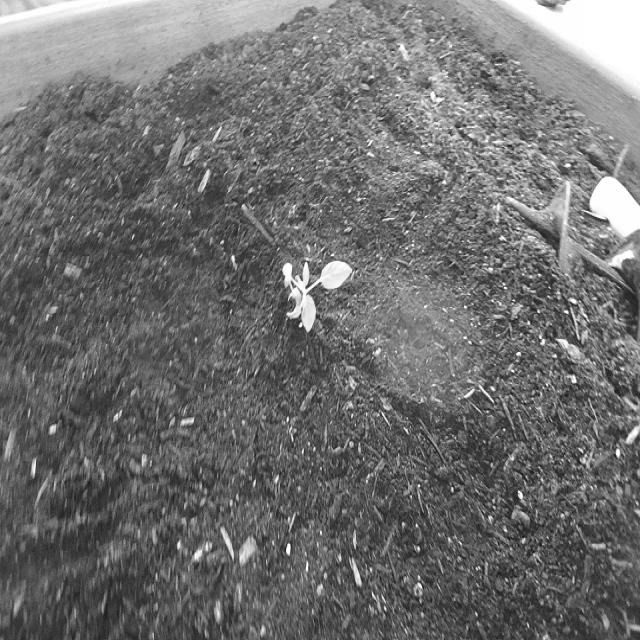Healthy: (272, 239, 362, 349)
